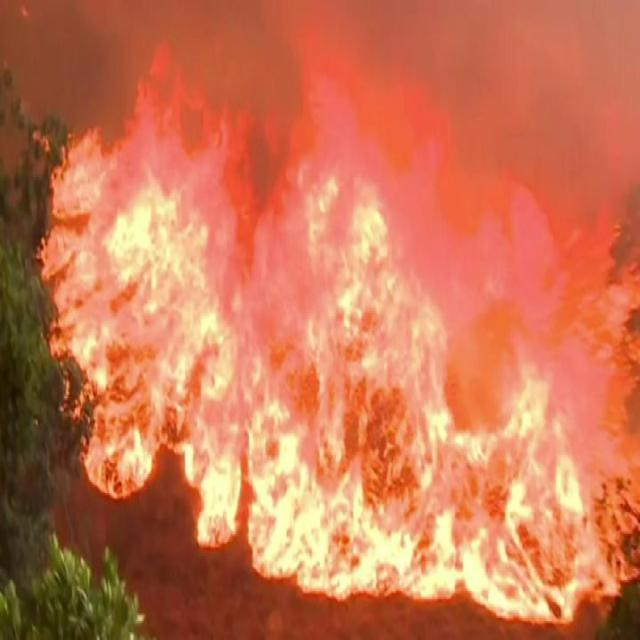Fire: (48, 131, 640, 618)
Smoke: (0, 0, 640, 116)
